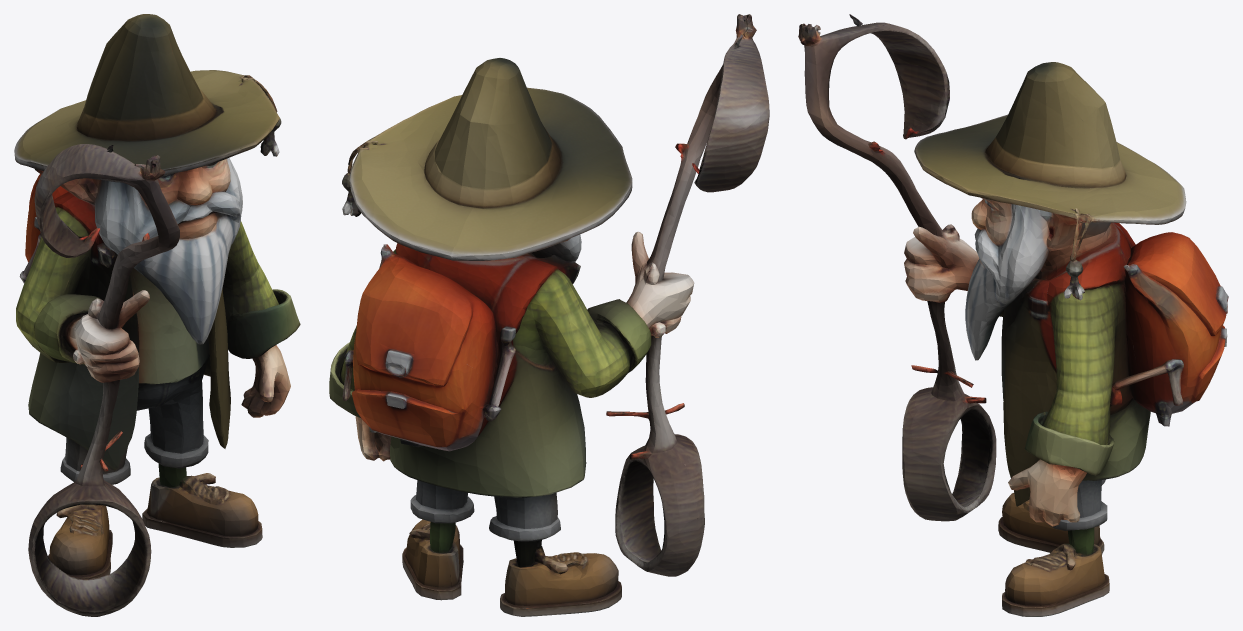
The model's file is pig_0.glb.
The picture shows the model from 3 angles, left to right: view 1: azimuth 30°, elevation 25°; view 2: azimuth 150°, elevation 25°; view 3: azimuth 270°, elevation 25°; orthographic projection. The views are drawn at different scales.
Visible parts, largest first — view 1: world; view 2: world; view 3: world.
Part boxes in pixels (box(x1,y1,x2,y2)): world: box(14, 14, 300, 616); world: box(329, 14, 769, 616); world: box(798, 14, 1228, 616).
Size of the model in its own units: 0.6778 by 1 by 0.7715.
1 material, 1 textured.
